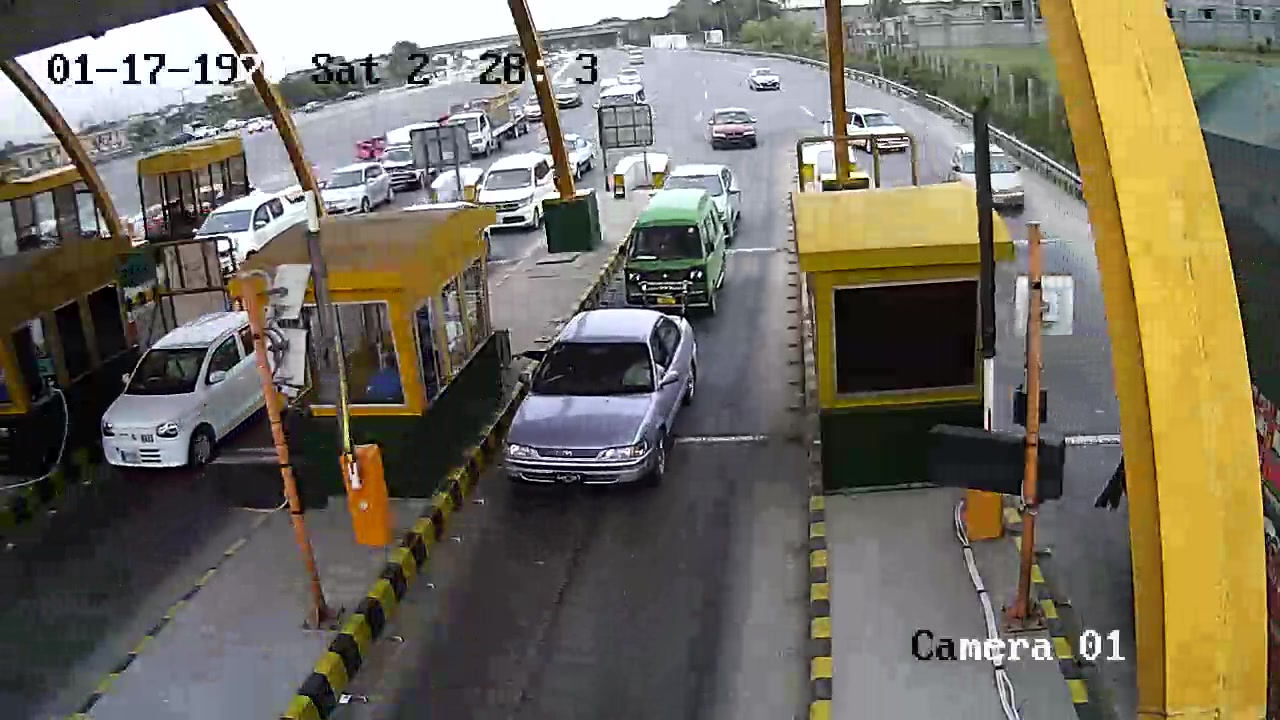F1: (491, 312, 706, 499)
